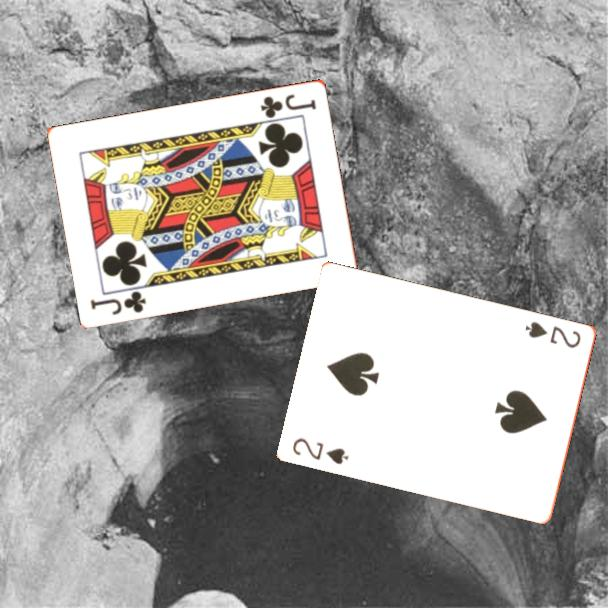c11: (87, 287, 149, 318), (257, 90, 319, 120)
s02: (289, 434, 352, 467), (522, 318, 584, 351)
